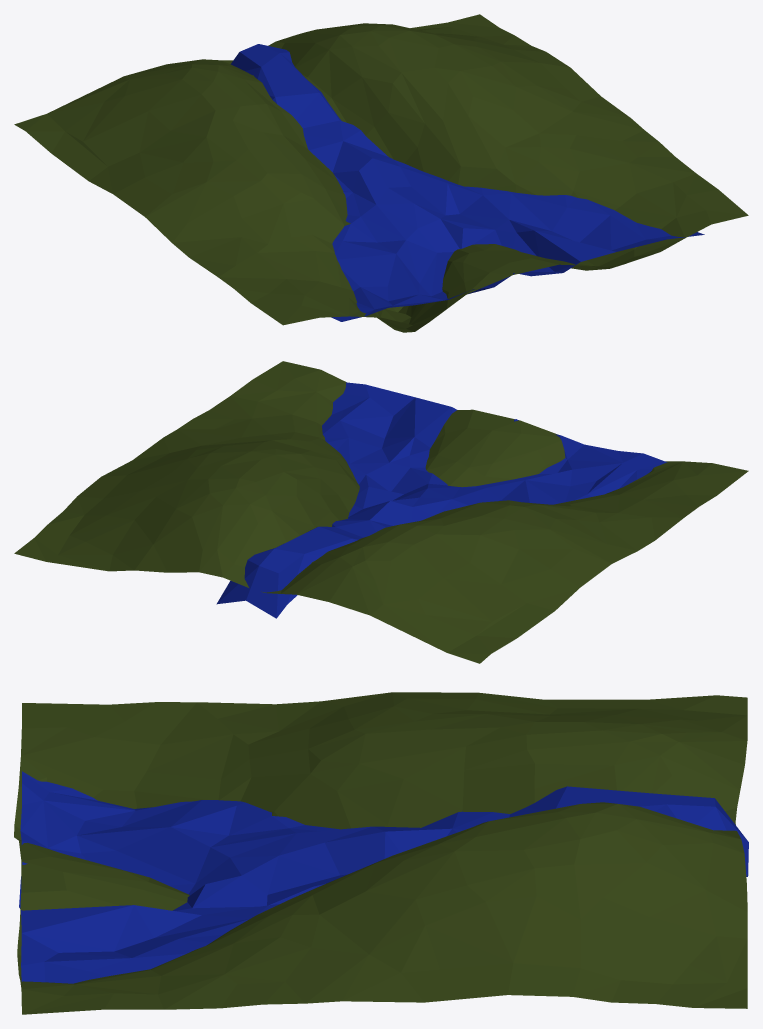
Rendered from WhyNot_RTS_Map (1).fbx.
3 renders of one model, top to bottom at view 1: azimuth 30°, elevation 25°; view 2: azimuth 150°, elevation 25°; view 3: azimuth 270°, elevation 25°, orthographic. The views are drawn at different scales.
Parts seen in each view (by area): view 1: 평면, 평면.001; view 2: 평면, 평면.001; view 3: 평면, 평면.001.
Boxes of the visible parts, x1,y1,x2,y2 form: 평면: (14, 14, 748, 332); 평면.001: (231, 44, 704, 321); 평면: (14, 361, 748, 663); 평면.001: (216, 382, 667, 618); 평면: (14, 692, 747, 1014); 평면.001: (19, 771, 748, 983).
Bounding box in the file's own units: 503 × 142 × 507.
